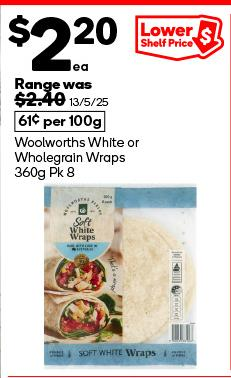description_block: (6, 135, 161, 180)
price_main: (3, 9, 127, 76)
product_image_block: (39, 179, 208, 372)
promo_text_block: (133, 12, 226, 60)
unit_price_block: (11, 107, 120, 135)
